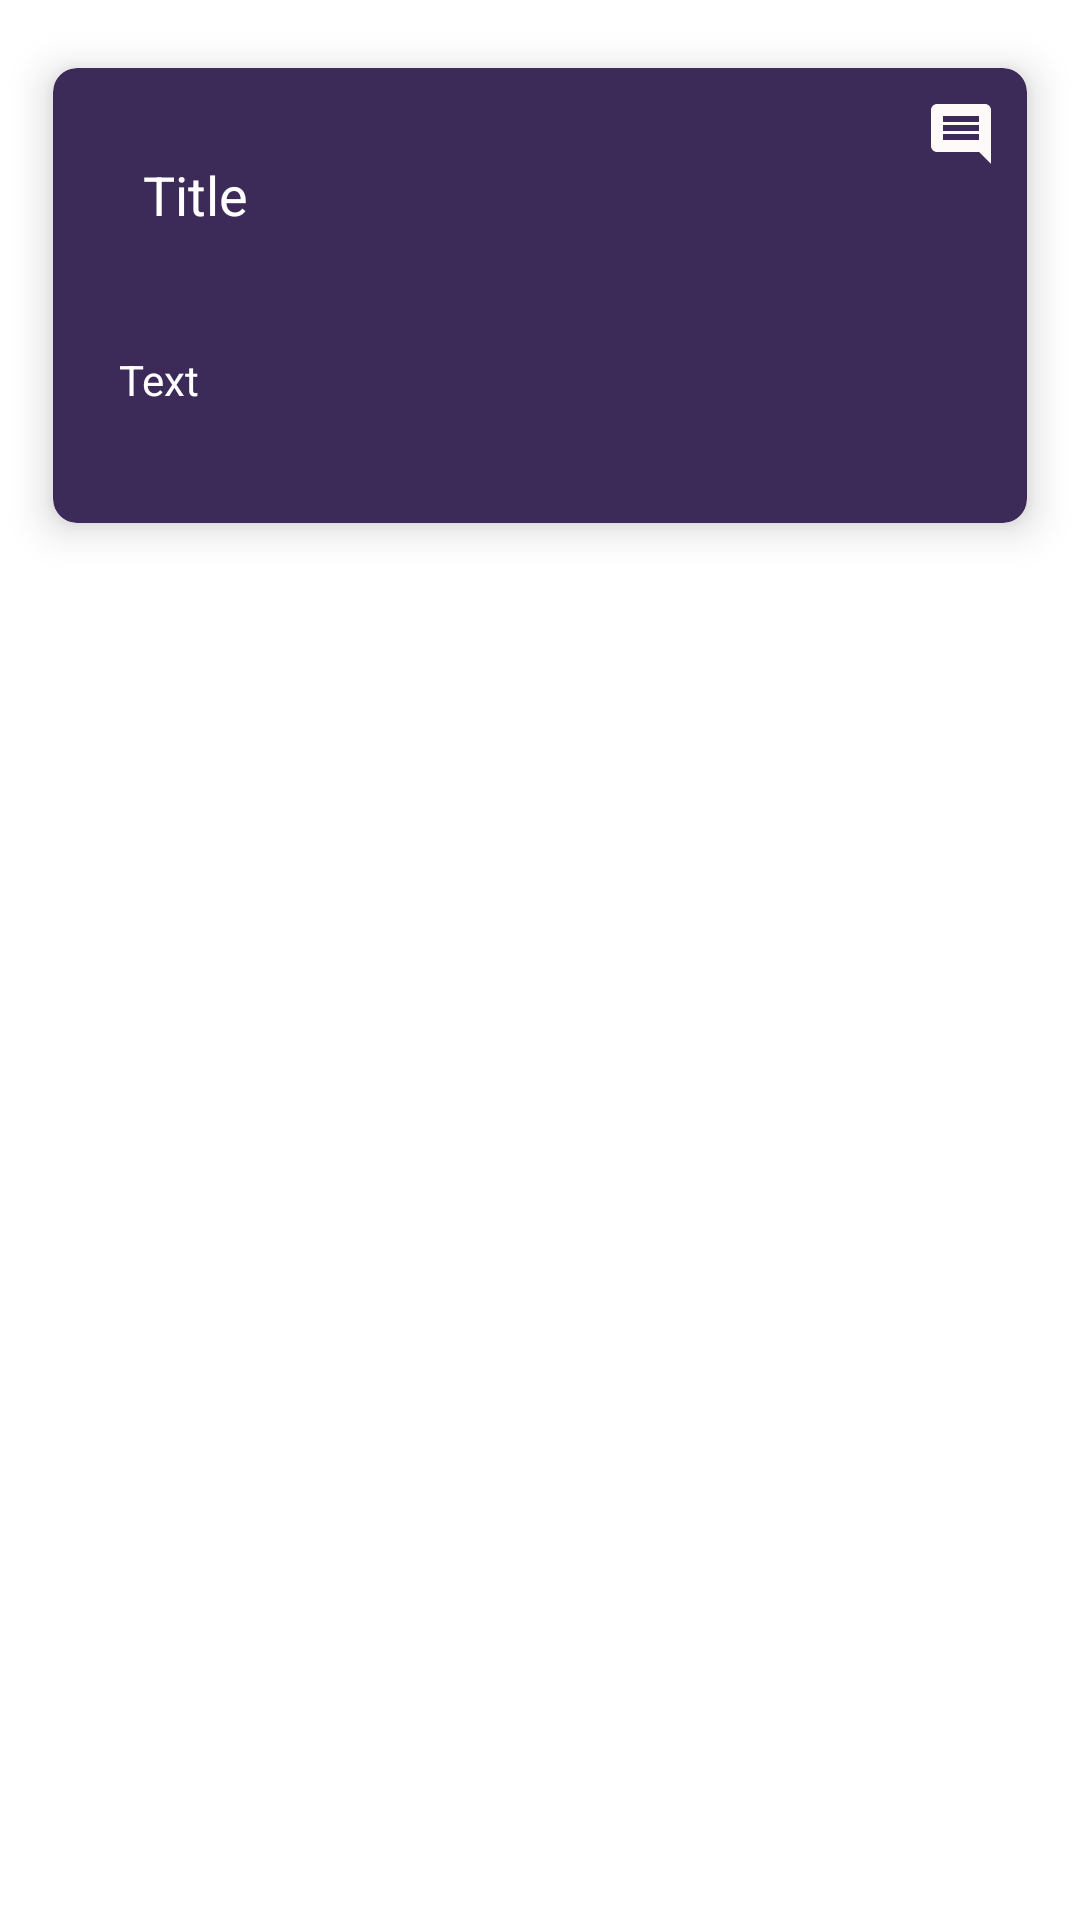

Icons on this 1080×1920 Android screen, each with the point to tap as point (x, y):
comment: point (961, 134)
